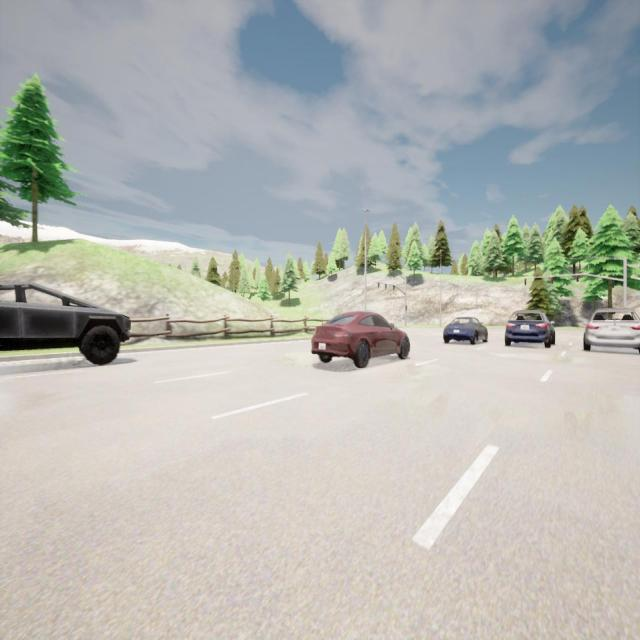Vehicle: (0, 282, 131, 364), (311, 312, 410, 368), (583, 309, 640, 352), (505, 310, 556, 348), (443, 317, 488, 344)
traffic_light: (524, 278, 526, 286), (551, 277, 553, 284), (576, 276, 578, 282), (405, 305, 407, 311), (393, 285, 395, 290), (385, 284, 387, 288), (378, 282, 379, 288)
